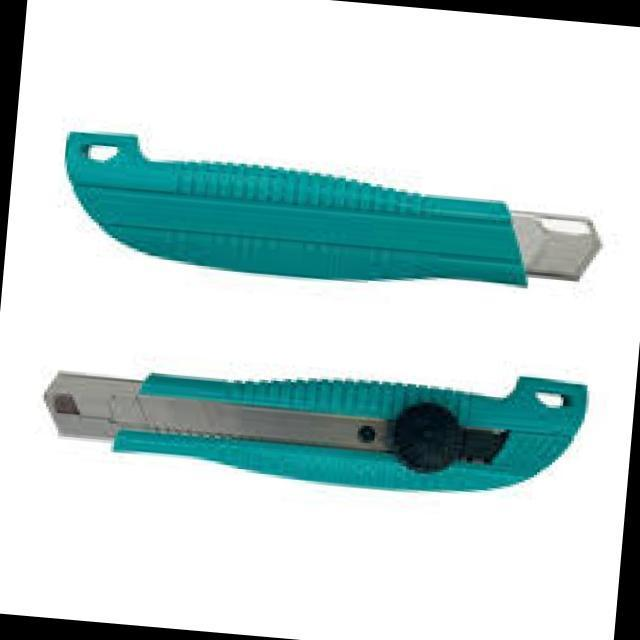cutter: (40, 120, 622, 316), (36, 320, 593, 522)
